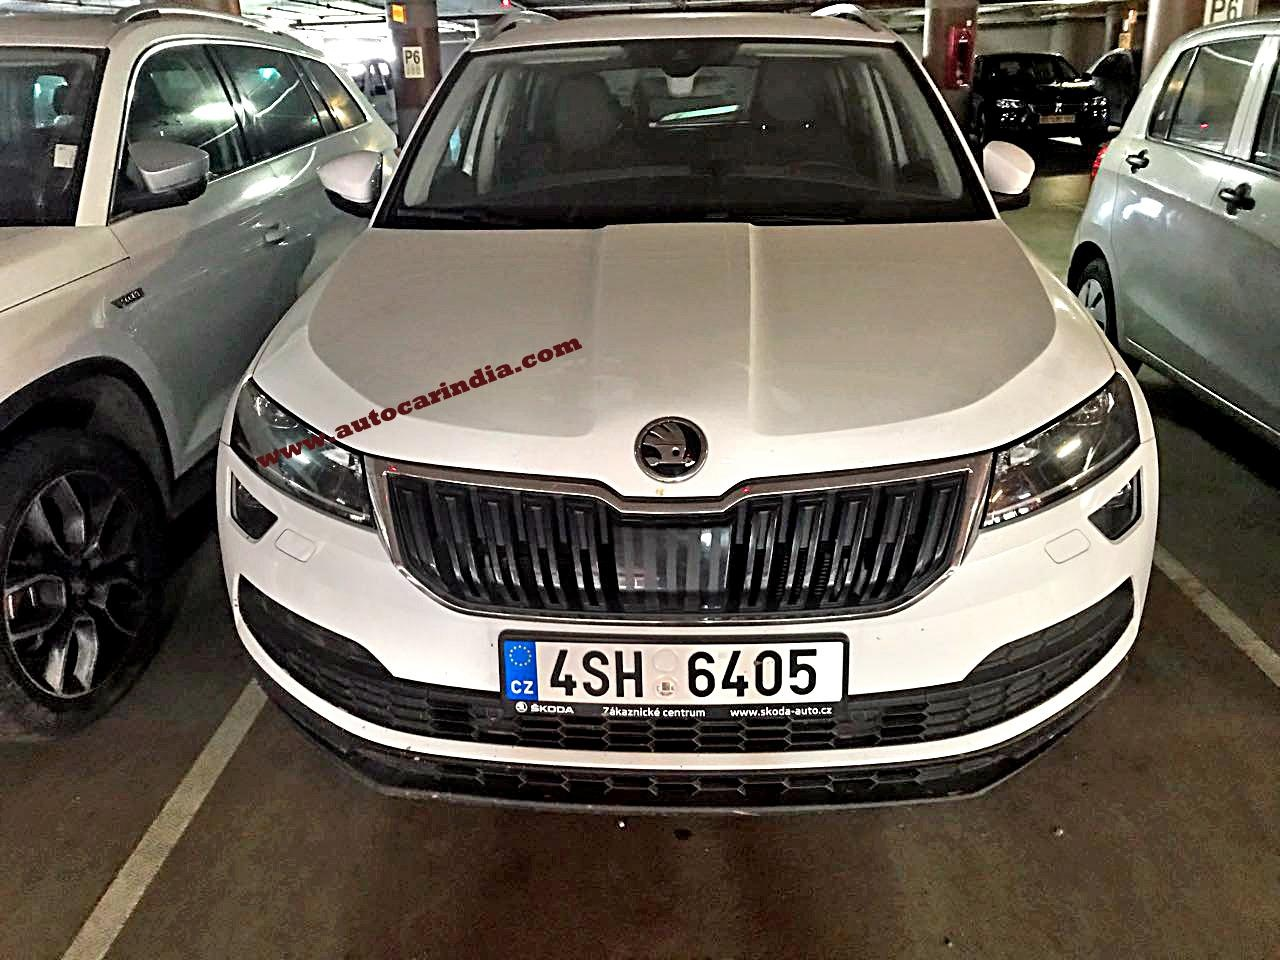number_plate: (532, 636, 852, 706)
